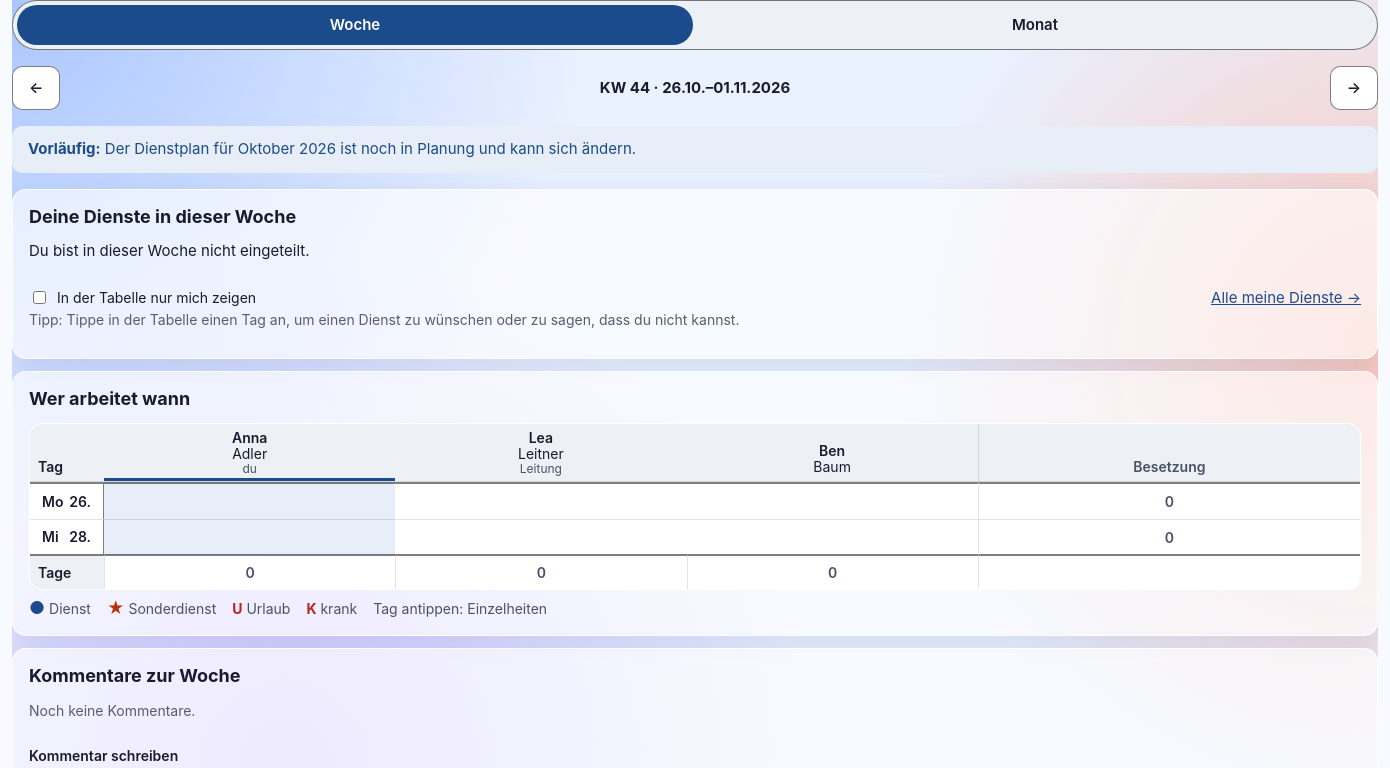
Test case: Dienstplan: Anzeige › neu seit dem letzten Besuch eingeteilte Dienste sind markiert; der Besuch wird gemerkt
Expected: the text "KW 44 · 26.10.–01.11.2026" is shown, [600,78,790,97]
Step 1. Click the button "→" → (1354, 88), box [1330,66,1378,110]
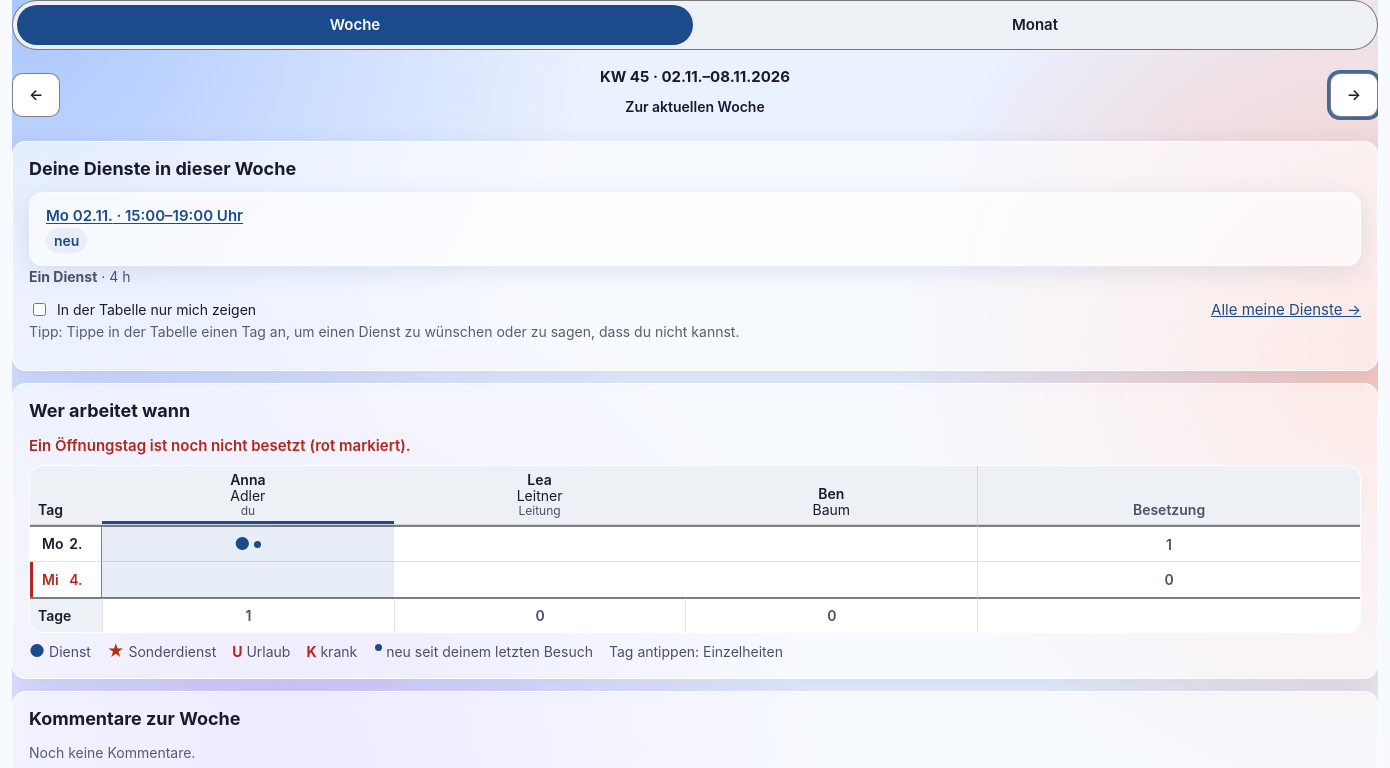
Expected: the text "neu" is shown, [46,228,87,252]
